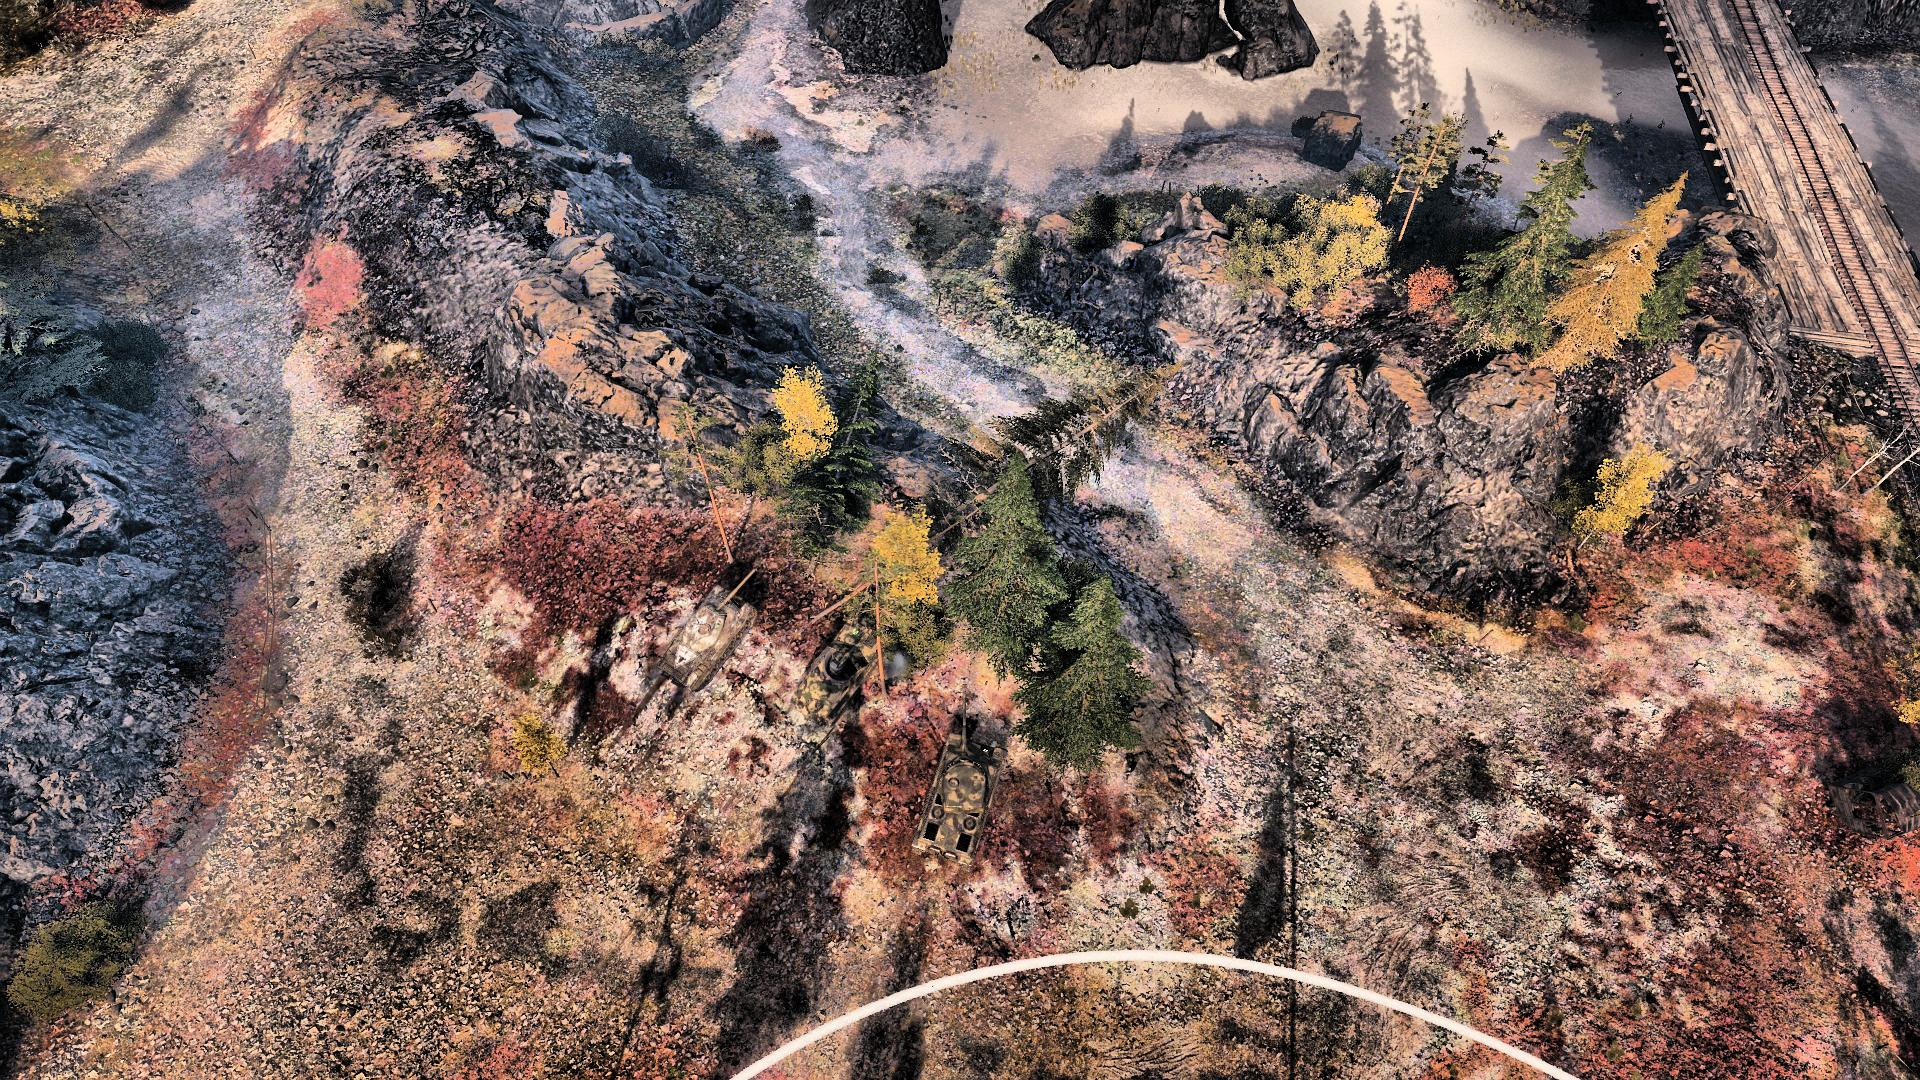military-vehicle: (914, 678, 996, 876), (658, 564, 762, 694), (790, 618, 886, 731)
